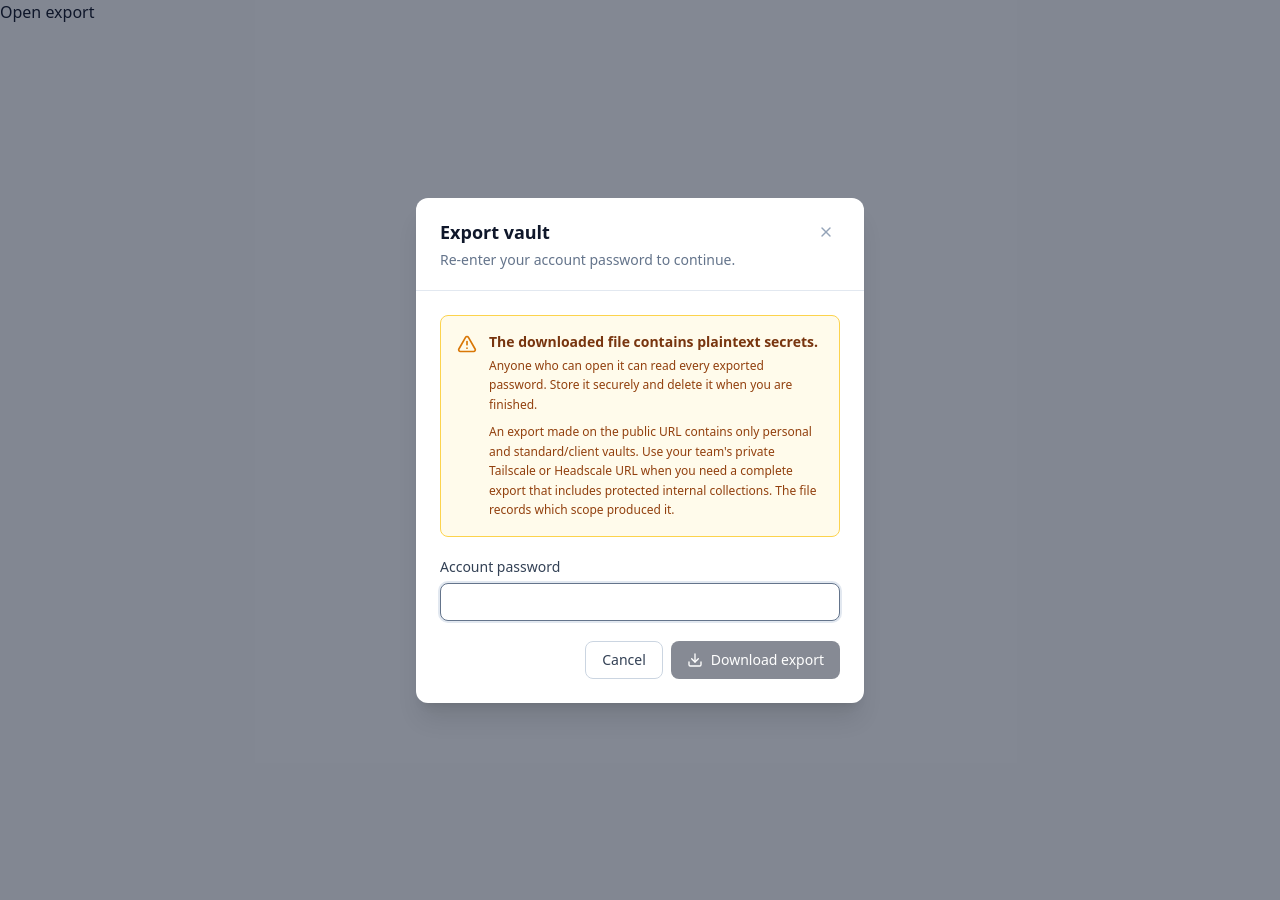
it: vault export › shows a wrong-password error and does not download anything
This screenshot has width=1280, height=900.
Type "wrong-password" into the password field labelled "Account password" at (640, 602), box [440,582,840,620]
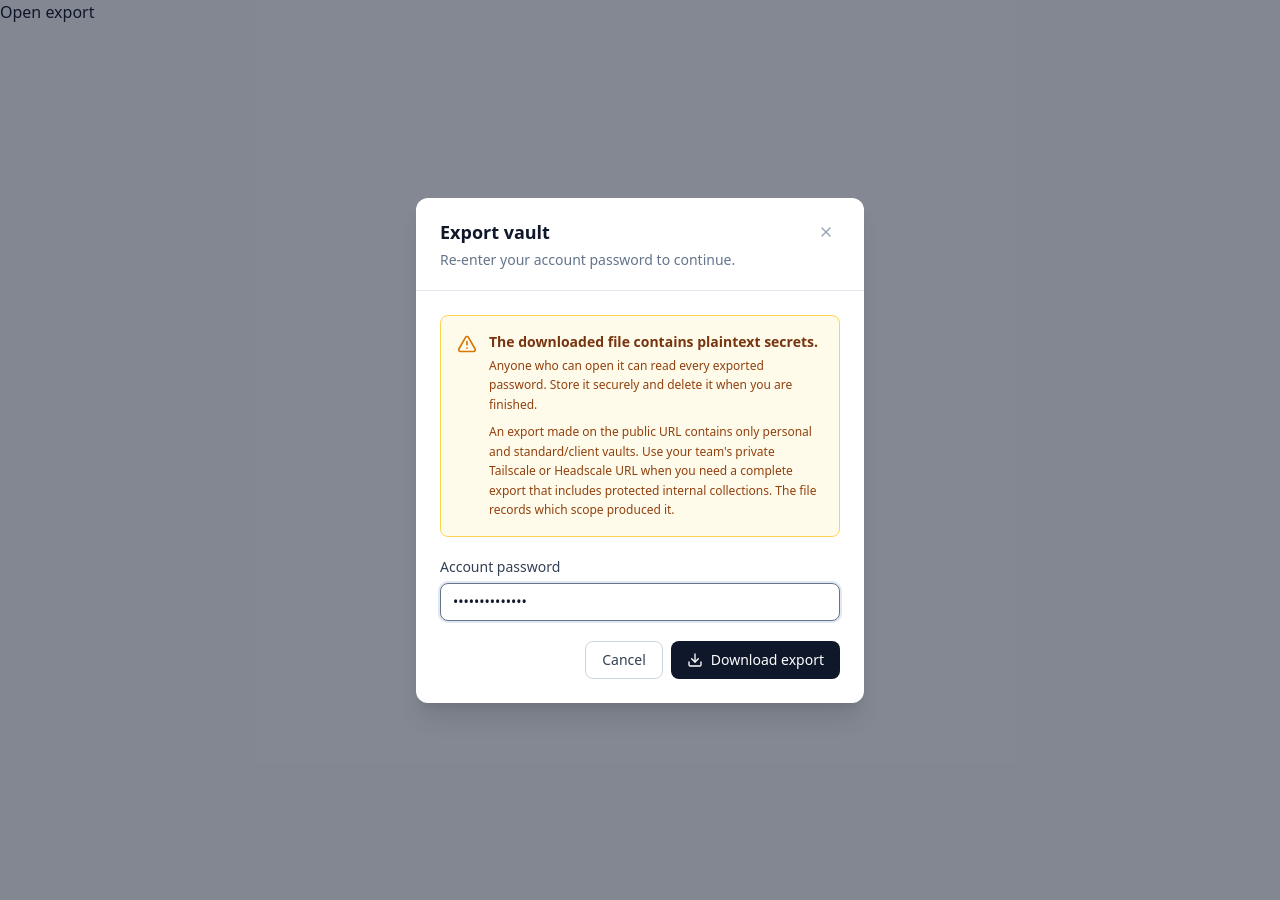
Click the button "Download export" at (755, 660), box [671,640,840,678]
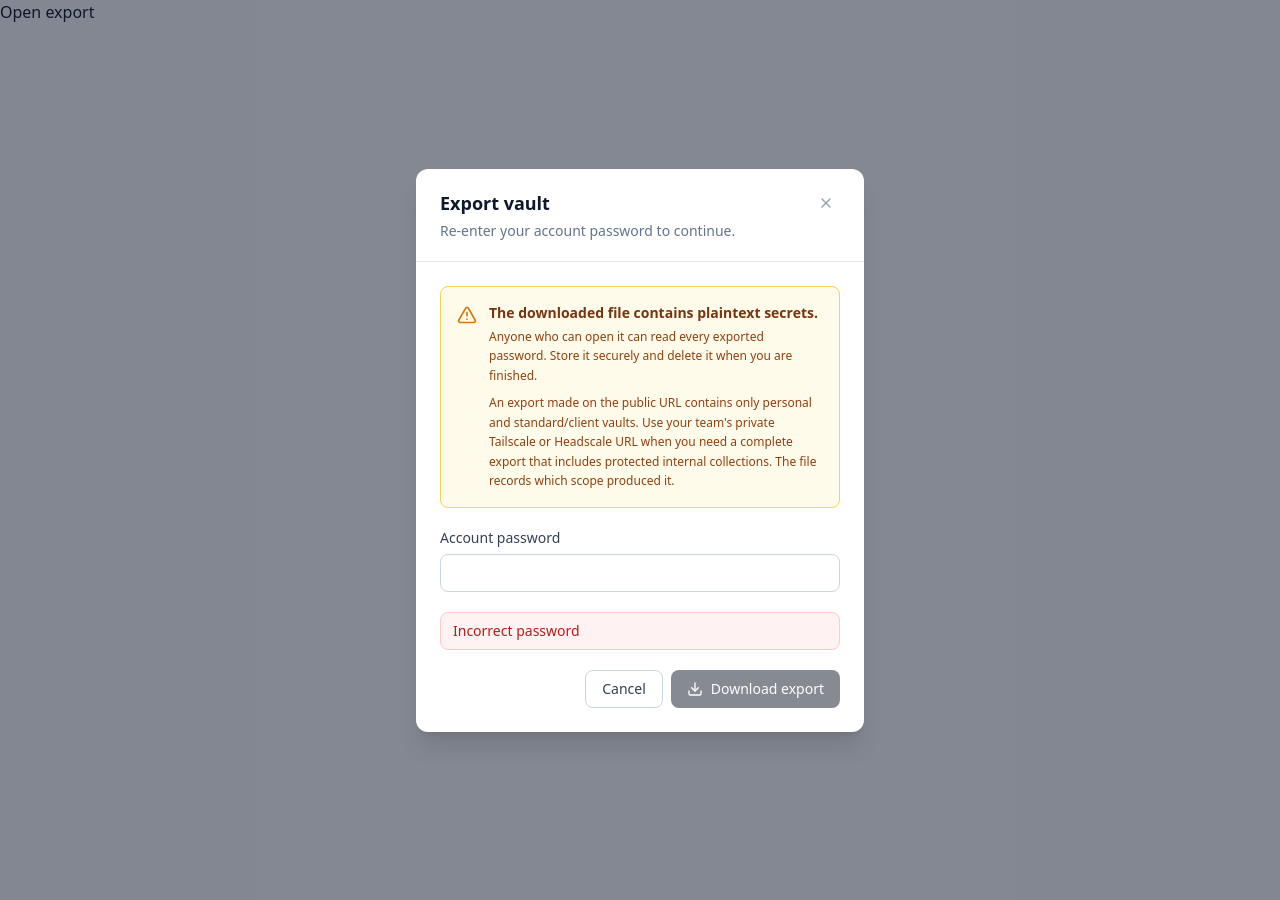
Check: the message reads "Incorrect password", box [453,620,580,640]
Check: the password field labelled "Account password" is empty, box [440,554,840,592]
